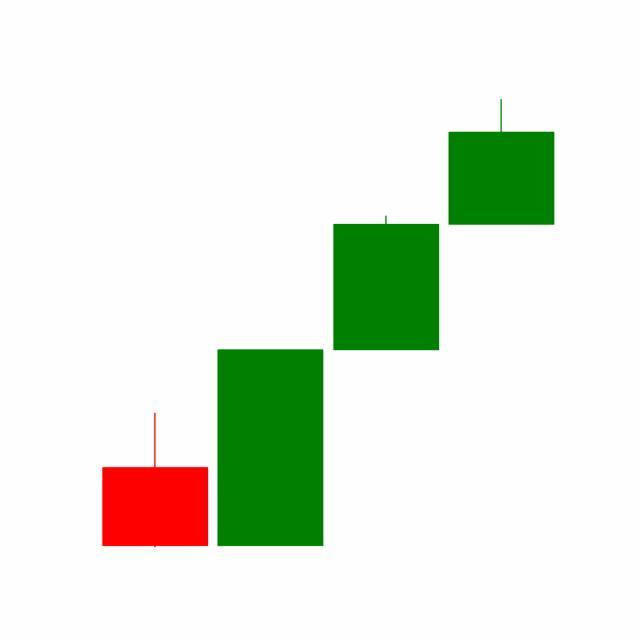Marubozu: (329, 215, 445, 353)
